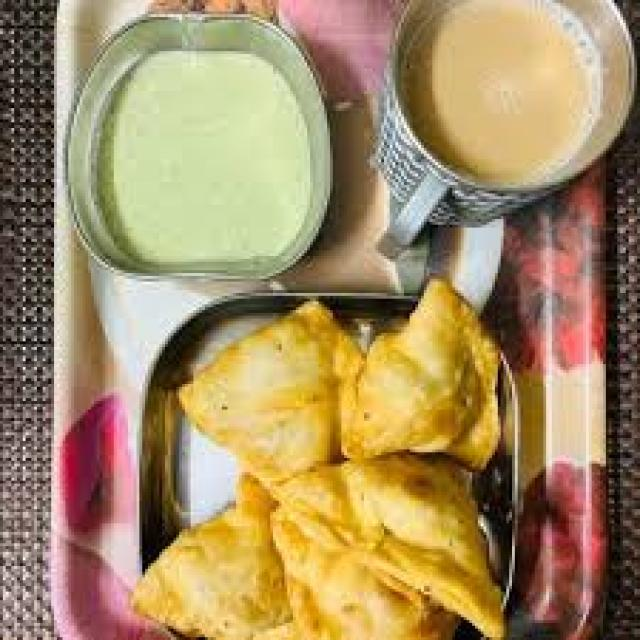SAMOSA: (270, 455, 501, 637), (341, 279, 498, 466), (179, 302, 344, 475), (137, 478, 284, 634)
